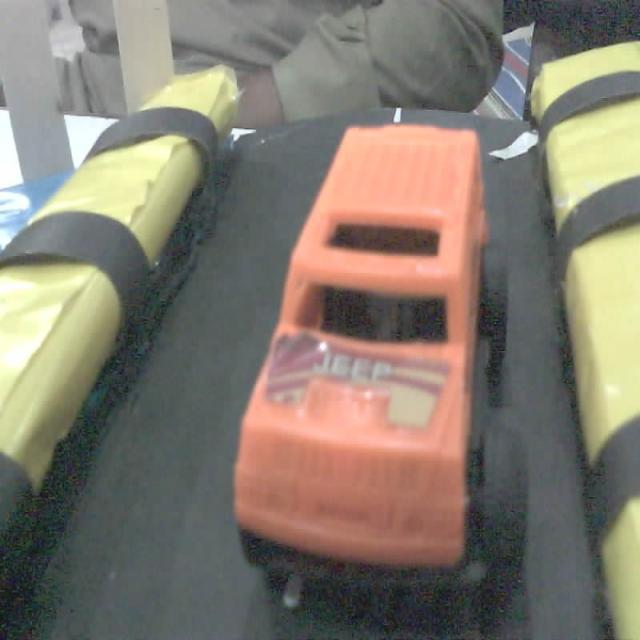OneCar: (220, 118, 549, 596)
